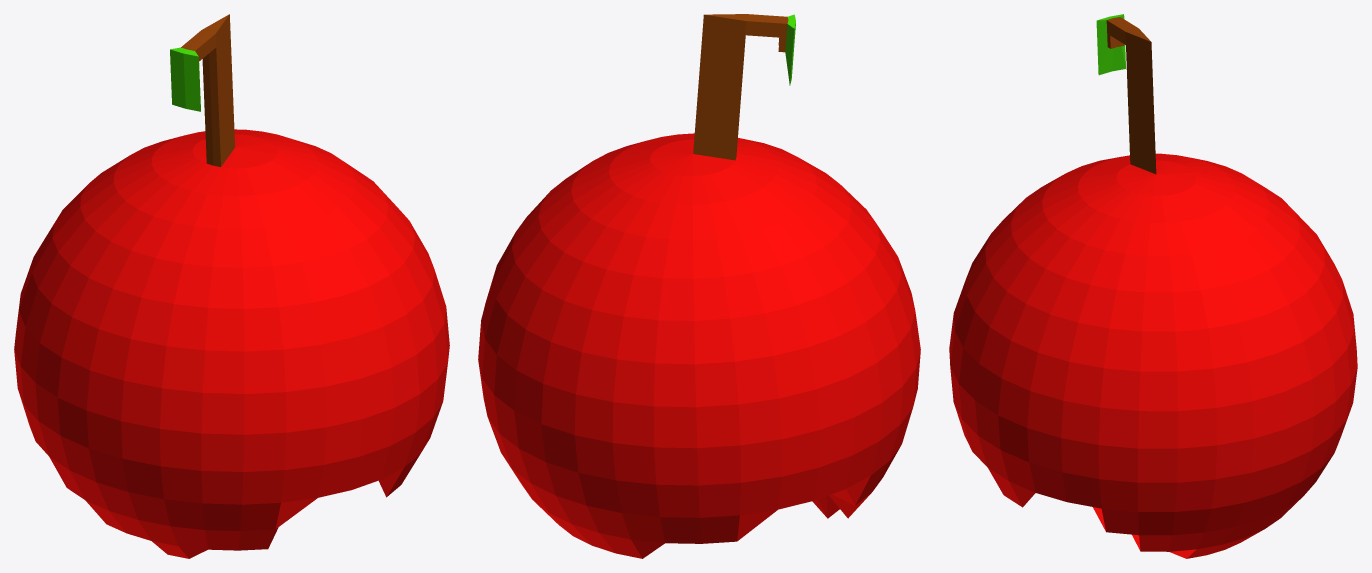
Rendered from apel.glb.
3 views of the same model, side by side, from view 1: azimuth 30°, elevation 25°; view 2: azimuth 150°, elevation 25°; view 3: azimuth 270°, elevation 25° (orthographic). The views are drawn at different scales.
Visible parts, largest first — view 1: Sphere; view 2: Sphere; view 3: Sphere.
Boxes of the visible parts, x1,y1,x2,y2 form: Sphere: [14, 14, 449, 558]; Sphere: [478, 14, 920, 558]; Sphere: [949, 14, 1357, 558].
Bounding box in the file's own units: 0.1247 × 0.159 × 0.1247.
